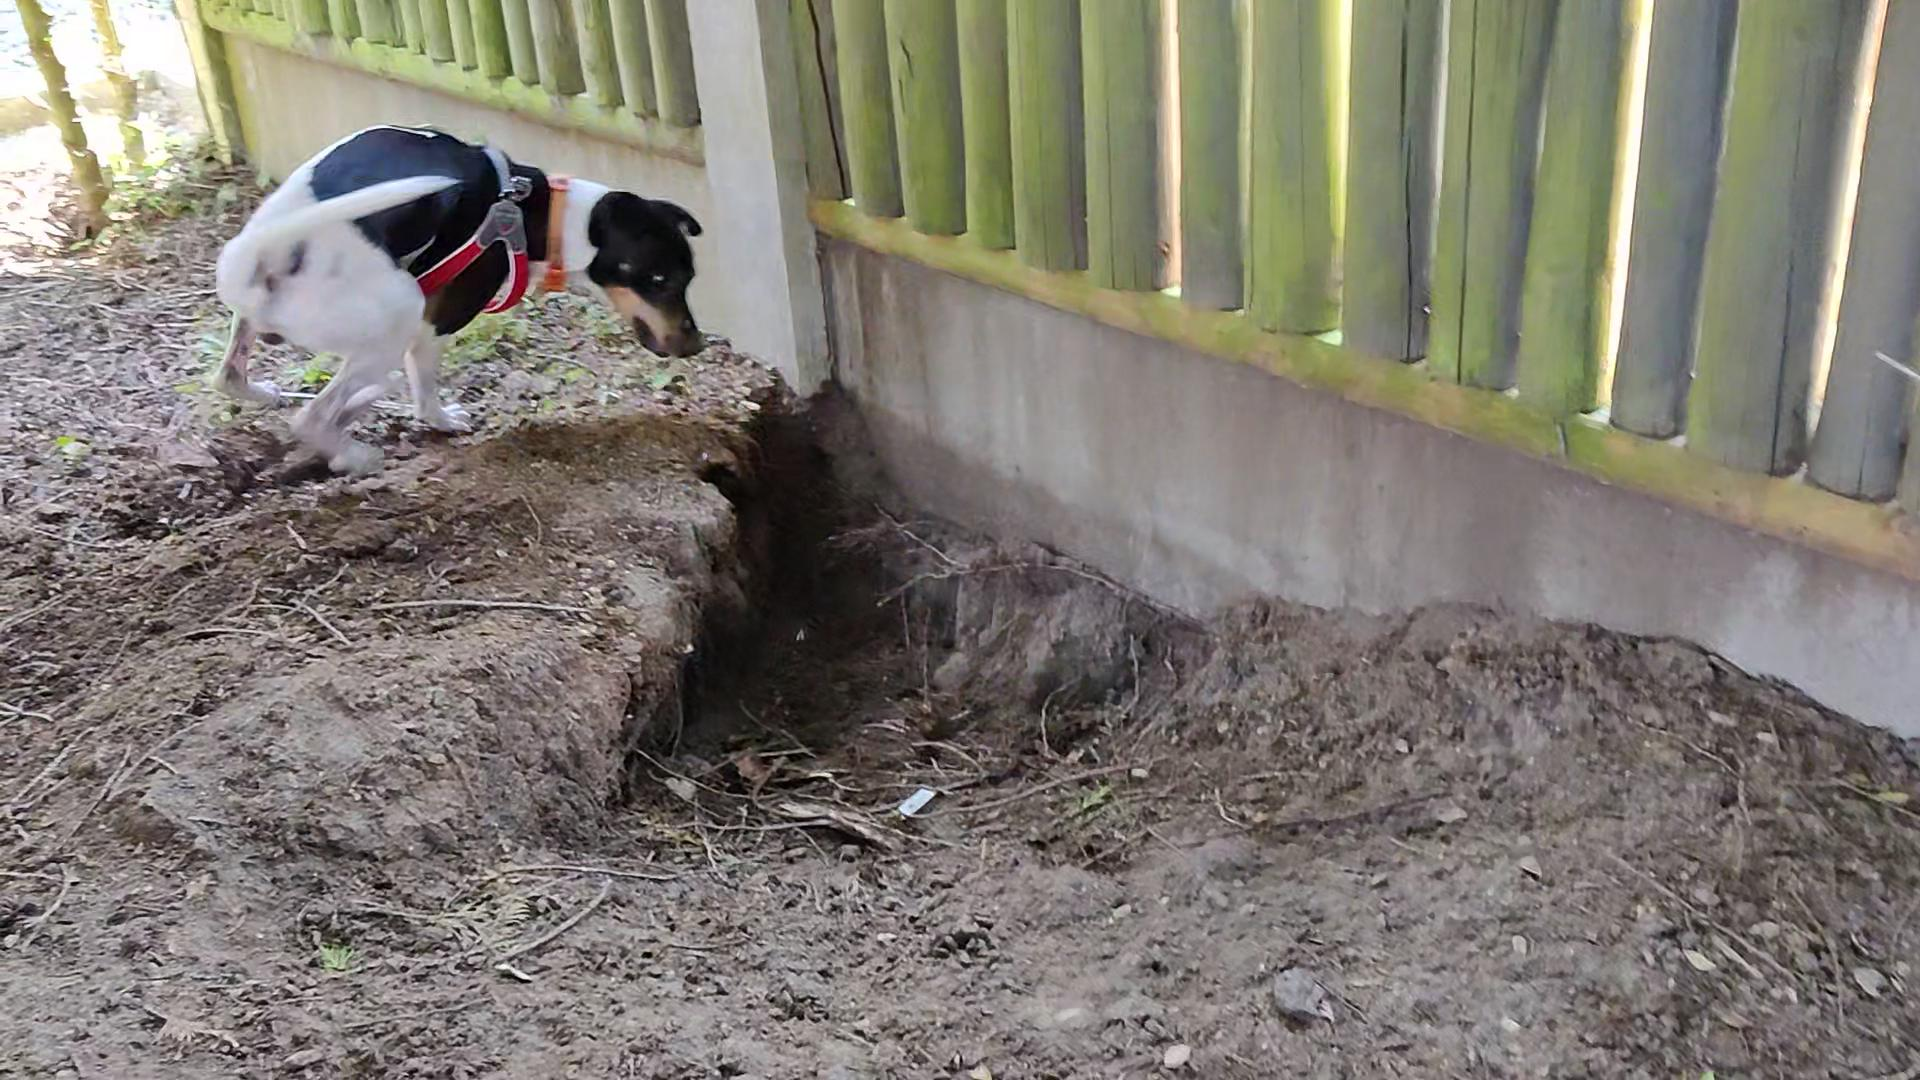Dog: (202, 103, 746, 483)
